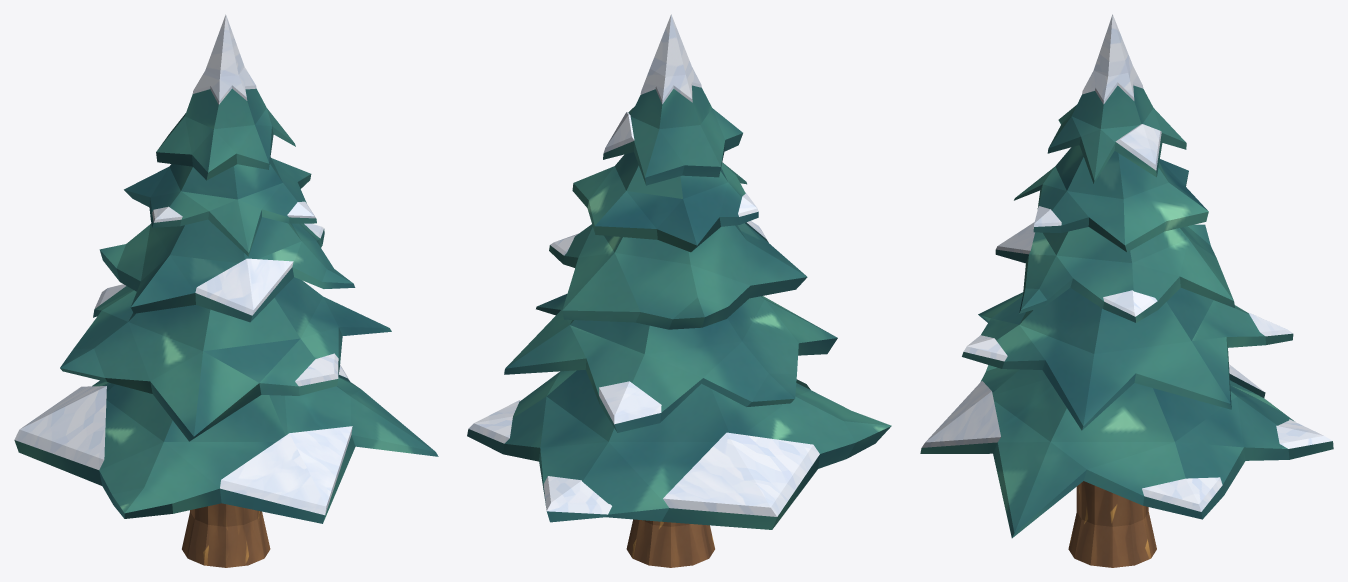
The model's file is Tree01.fbx.
3 renders of one model, left to right at view 1: azimuth 30°, elevation 25°; view 2: azimuth 150°, elevation 25°; view 3: azimuth 270°, elevation 25°, orthographic.
Visible parts, largest first — view 1: Tree01; view 2: Tree01; view 3: Tree01.
Part boxes in pixels (<box>): Tree01: <box>14,14,438,567</box>; Tree01: <box>467,14,891,567</box>; Tree01: <box>920,14,1333,567</box>.
Size of the model in its own units: 316 by 499 by 350.
